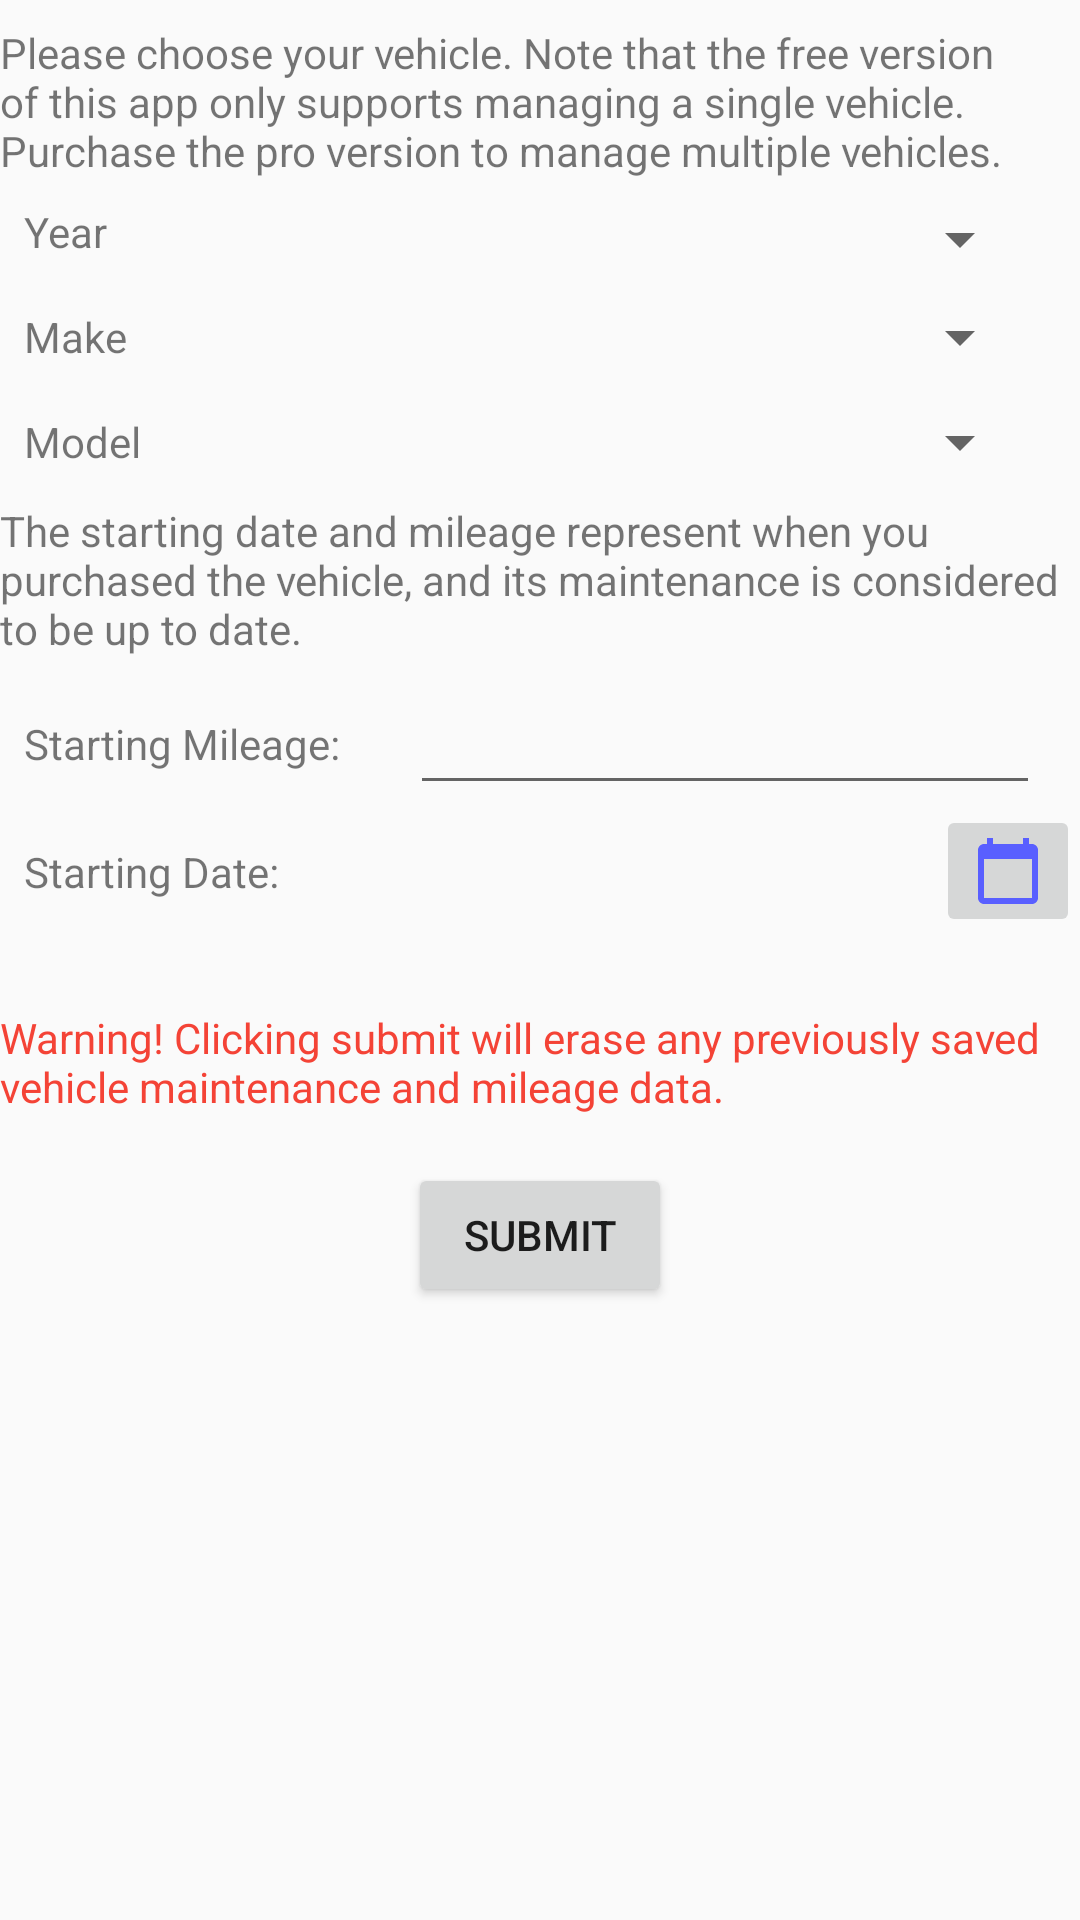

Point at icon controls on the screen. Image size 1080x1920, points as (x=x, y=y).
calendar: (x=1008, y=871)
